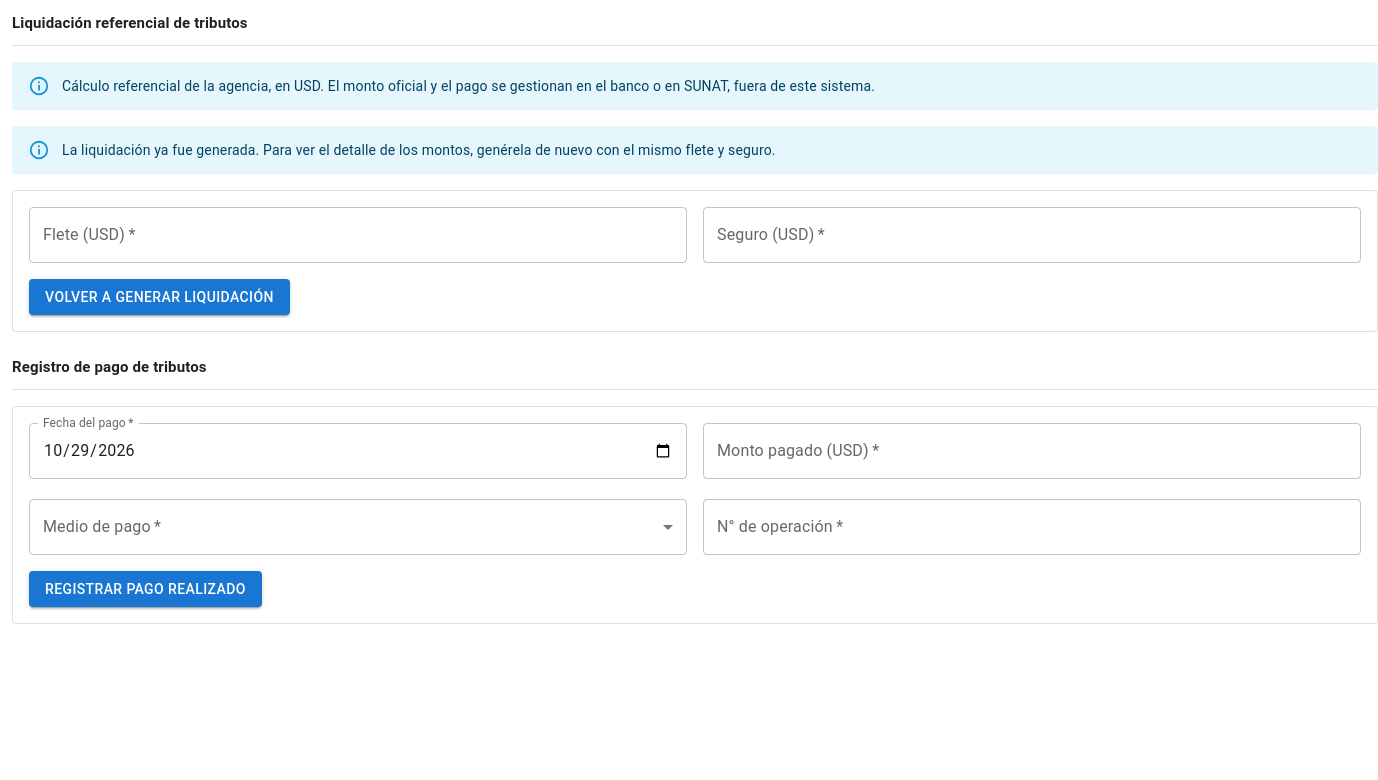
Test: LiquidacionDespacho (HU-08) › muestra el mensaje del API si se intenta pagar sin liquidación (409)
The image size is (1378, 780).
Type "10.00" into the field labelled "Monto pagado (USD) *" at (1032, 450), box [703,422,1361,478]
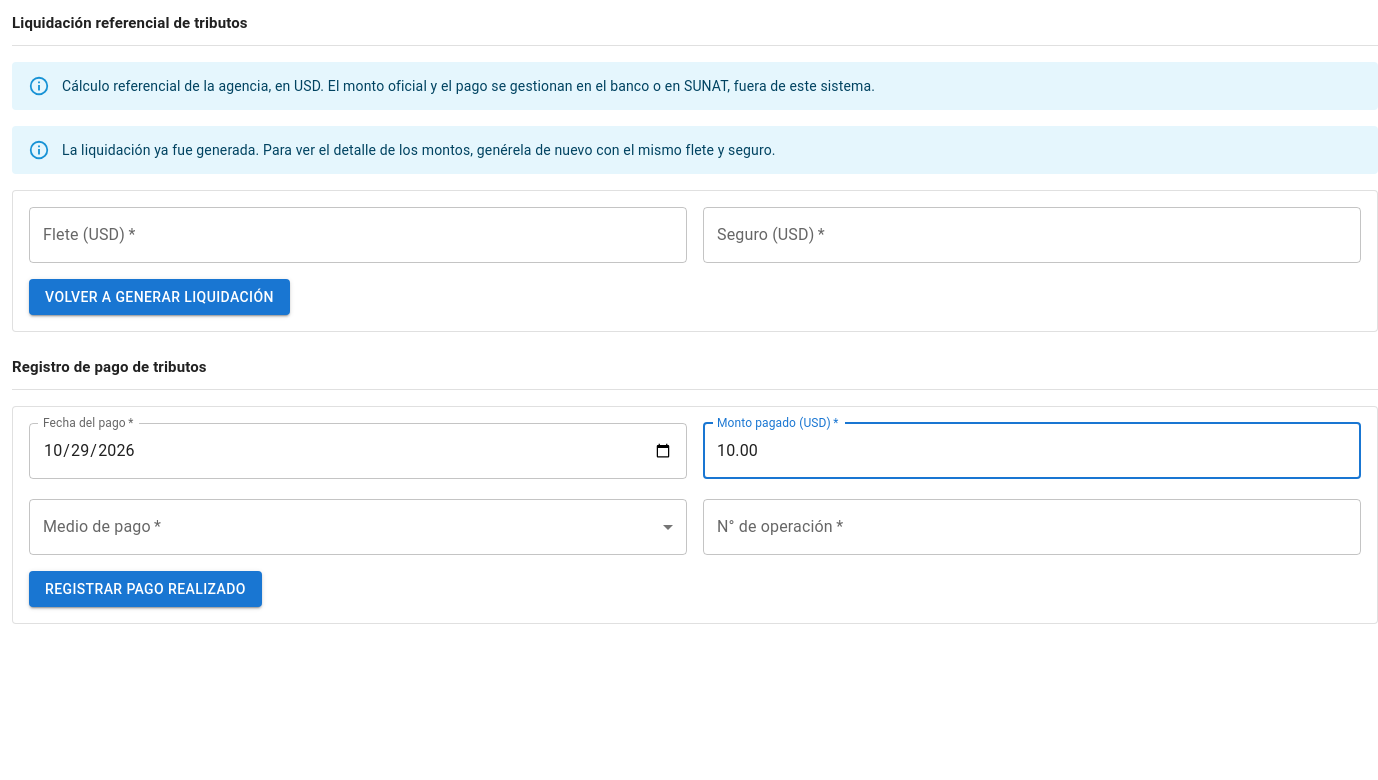
Click the dropdown named "Medio de pago" at (358, 526), box [29,498,687,554]
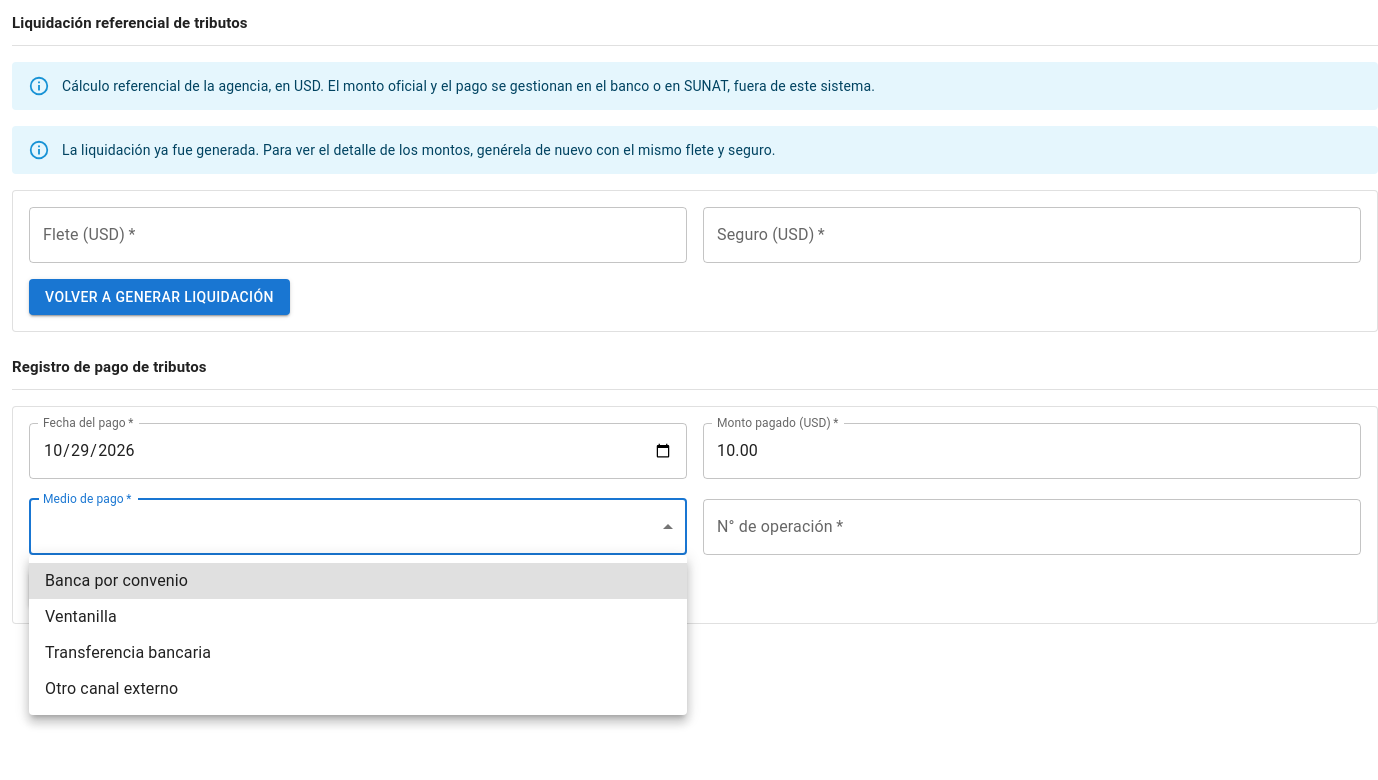
Click the option "Ventanilla" at (81, 616), box [45,607,117,626]
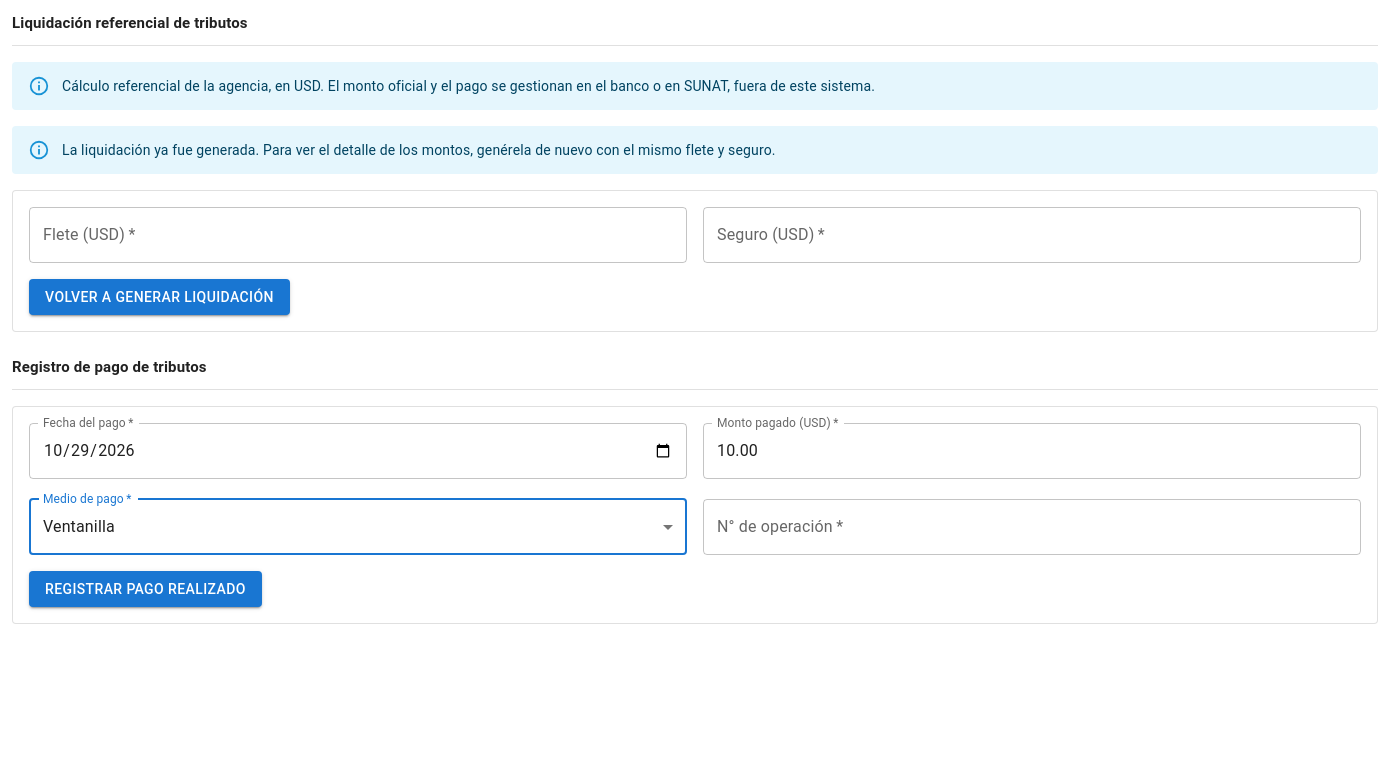
Type "1" into the field labelled "N° de operación *" at (1032, 526), box [703,498,1361,554]
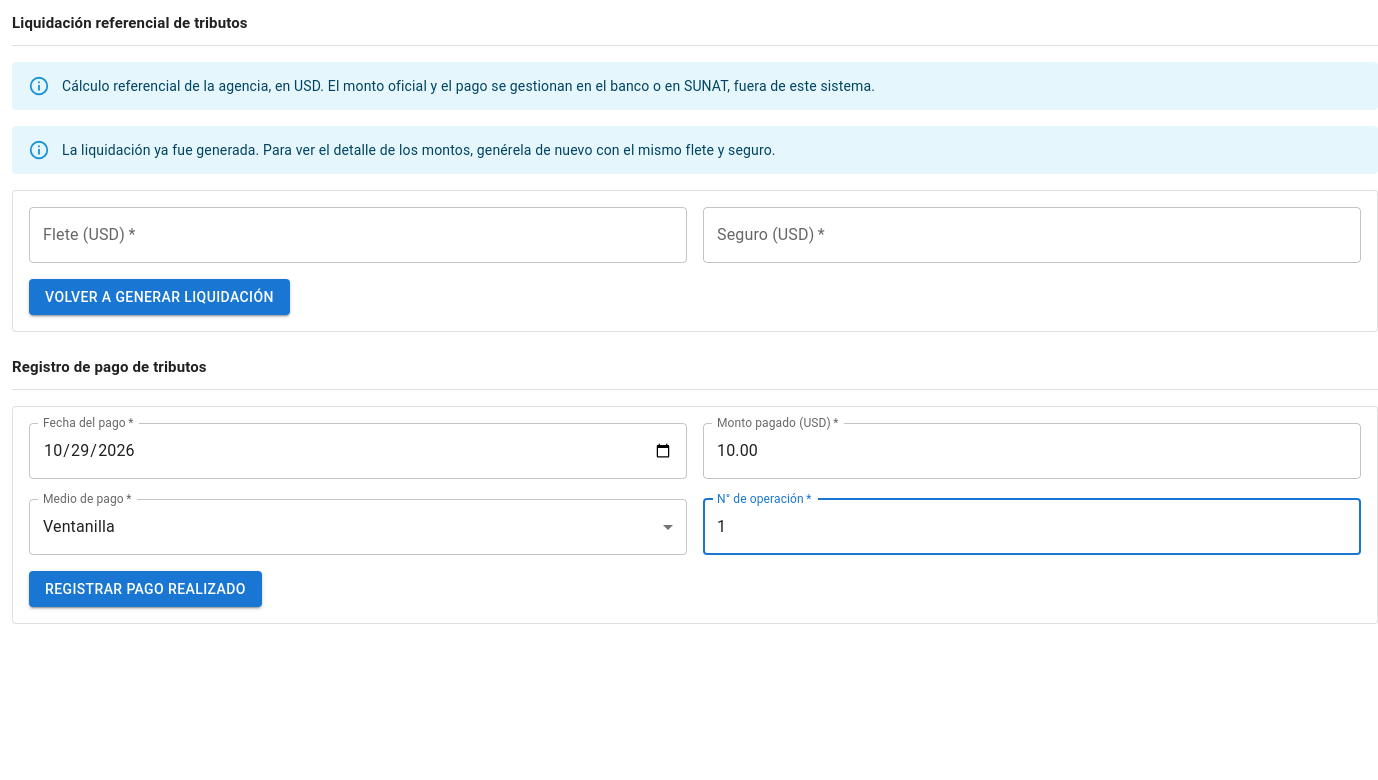
Click the button "Registrar pago realizado" at (145, 589), box [29,570,262,607]
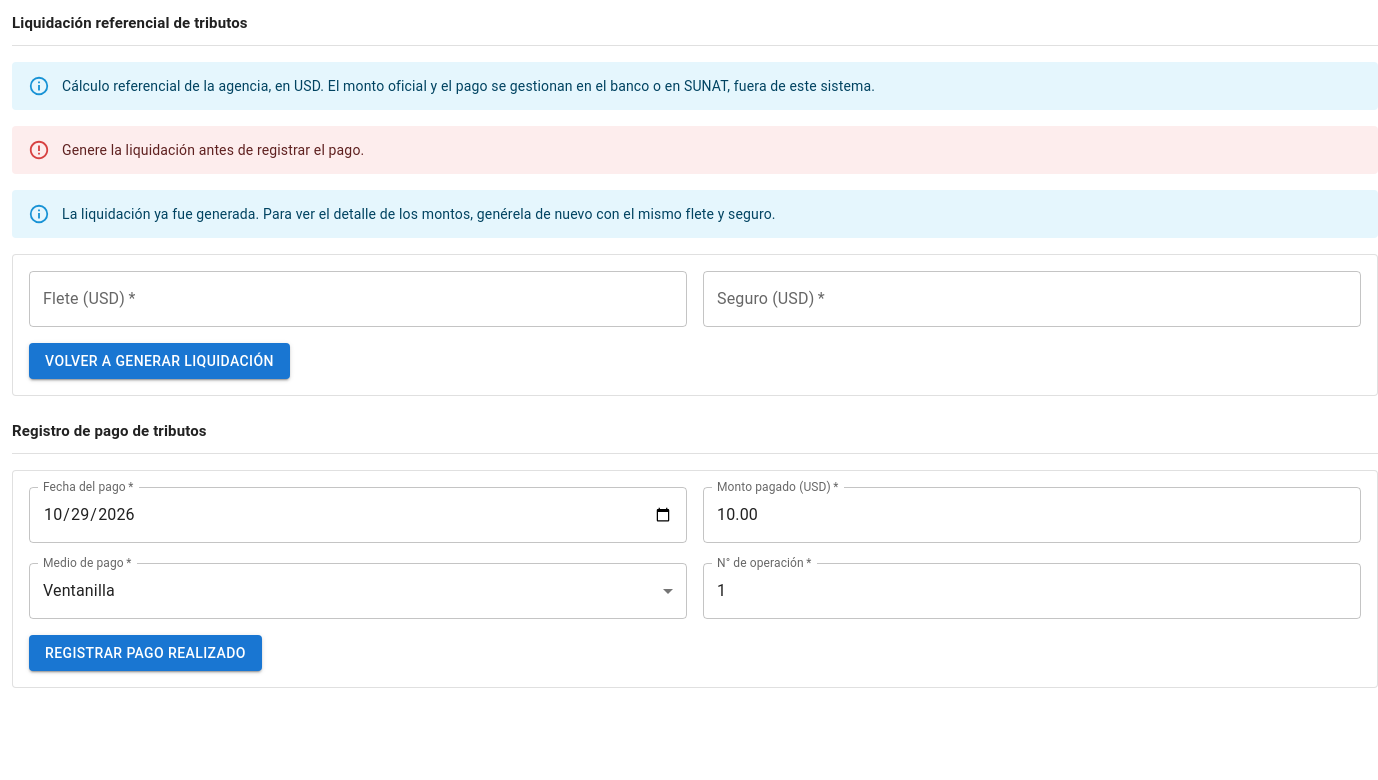
Result: the text "Genere la liquidación antes de registrar el pago." is shown at [62,142,364,158]
